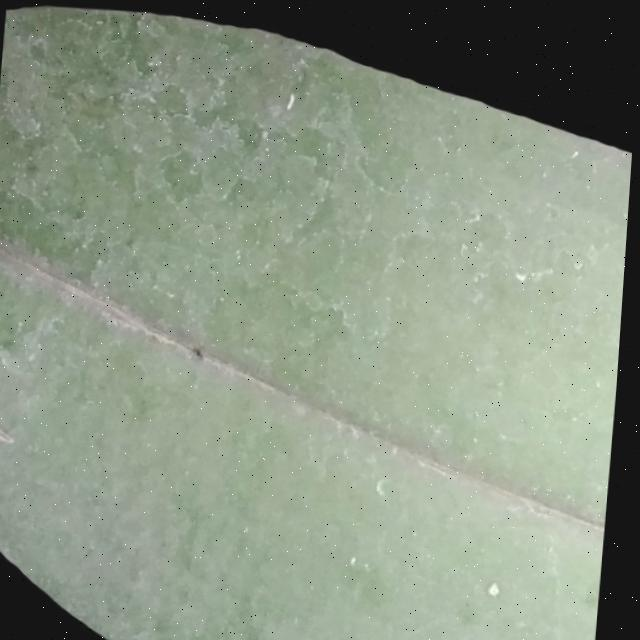mite: (0, 13, 396, 382), (156, 107, 271, 209), (462, 568, 514, 623), (158, 147, 211, 200), (233, 114, 268, 149), (66, 201, 96, 229), (73, 208, 90, 223), (196, 345, 210, 358), (469, 593, 481, 605)
